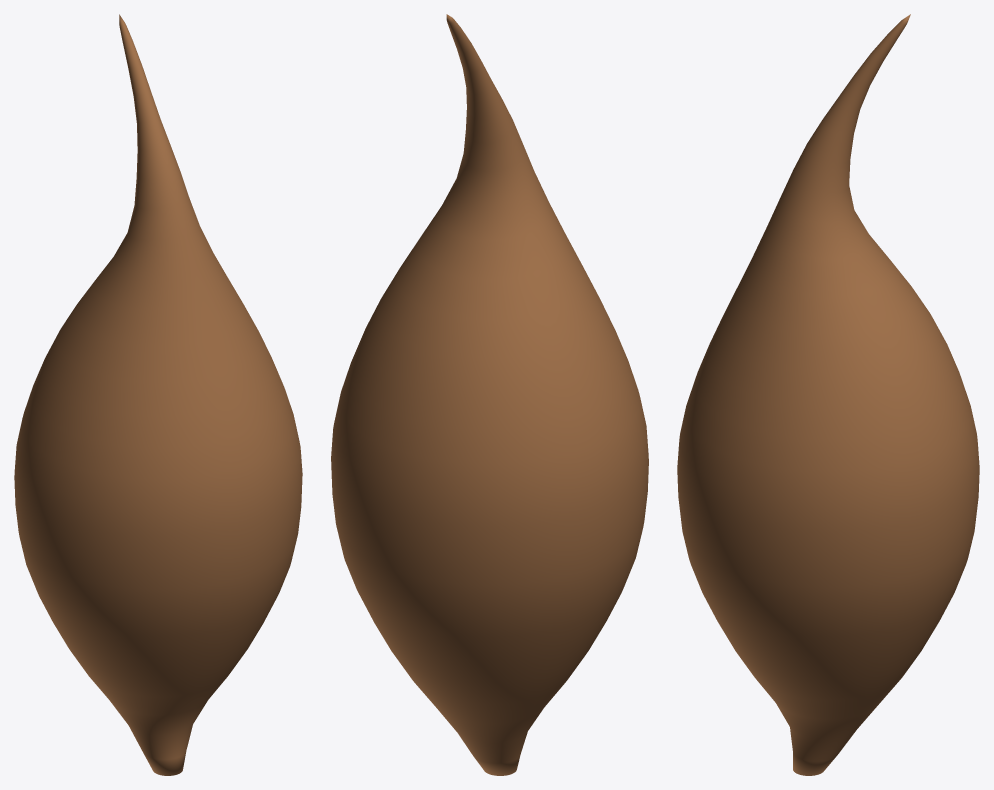
File: Stinger.fbx
3 renders of one model, left to right at view 1: azimuth 30°, elevation 25°; view 2: azimuth 150°, elevation 25°; view 3: azimuth 270°, elevation 25°, orthographic. The views are drawn at different scales.
Visible parts, largest first — view 1: Stinger - FROSTY; view 2: Stinger - FROSTY; view 3: Stinger - FROSTY.
Part boxes in pixels (x1,y1,x2,y2): Stinger - FROSTY: [14, 14, 302, 775]; Stinger - FROSTY: [331, 14, 648, 775]; Stinger - FROSTY: [677, 14, 979, 775].
Size of the model in its own units: 32.95 by 90.79 by 32.95.
